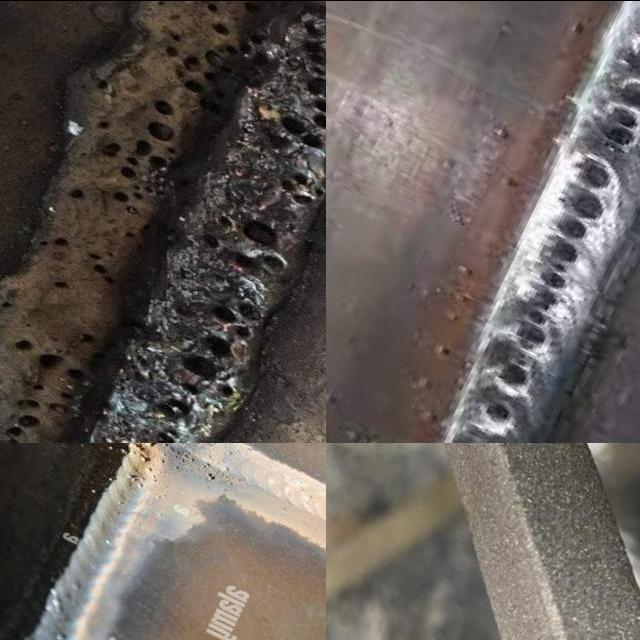defect: (510, 146, 618, 360), (154, 296, 269, 442), (162, 0, 269, 119), (96, 94, 181, 214), (269, 13, 326, 155), (201, 201, 297, 277), (596, 34, 640, 160), (6, 332, 99, 386), (2, 378, 75, 442), (277, 167, 326, 214), (479, 356, 533, 396), (473, 398, 520, 434), (125, 442, 160, 490), (83, 244, 118, 291), (84, 69, 122, 99), (160, 442, 196, 470), (33, 231, 69, 252), (43, 273, 77, 294), (74, 327, 99, 347), (62, 183, 88, 202), (0, 294, 18, 312), (199, 471, 215, 483), (219, 464, 230, 474), (200, 462, 211, 469)
